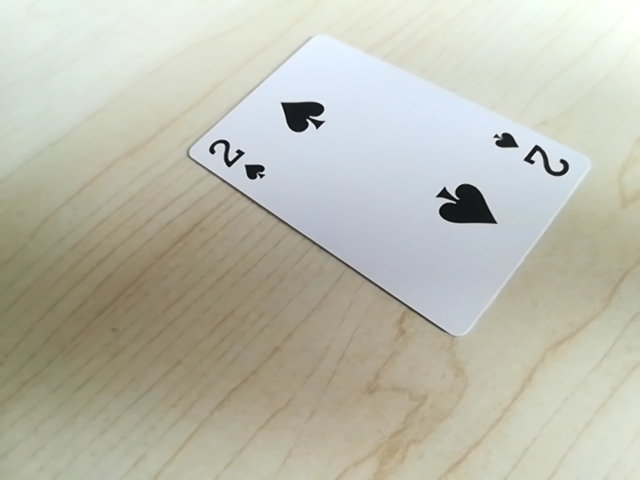ht 2: (486, 127, 575, 184), (194, 134, 267, 187)
